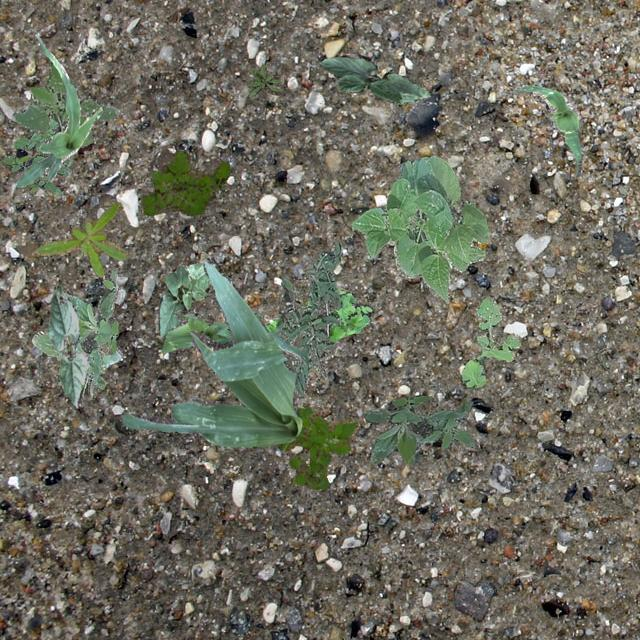crop: (121, 259, 302, 446), (350, 154, 488, 302), (14, 34, 102, 186), (160, 308, 308, 362), (512, 84, 582, 178), (320, 52, 428, 104), (48, 284, 88, 406), (157, 262, 210, 336)
weed: (12, 60, 122, 166), (274, 240, 342, 396), (362, 394, 474, 464), (62, 270, 118, 394), (35, 200, 126, 276), (0, 118, 91, 194), (276, 406, 358, 488), (262, 288, 372, 342), (140, 150, 228, 214), (460, 296, 520, 388), (30, 330, 121, 382), (246, 62, 282, 96)
